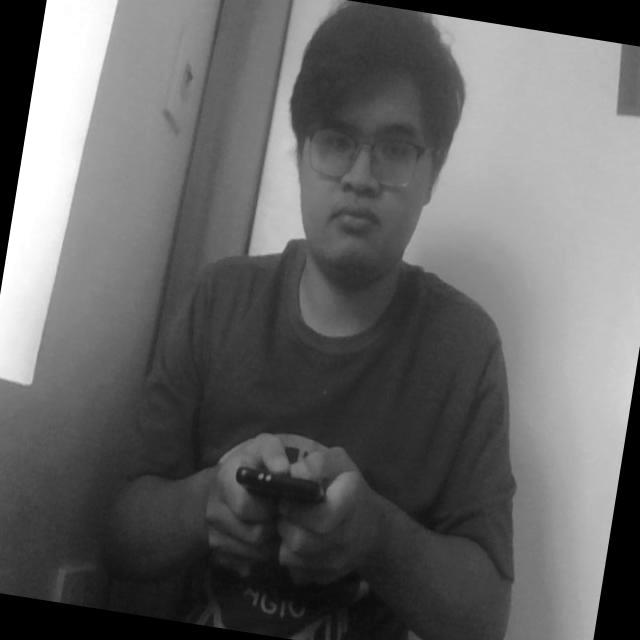phone: (214, 428, 362, 544)
